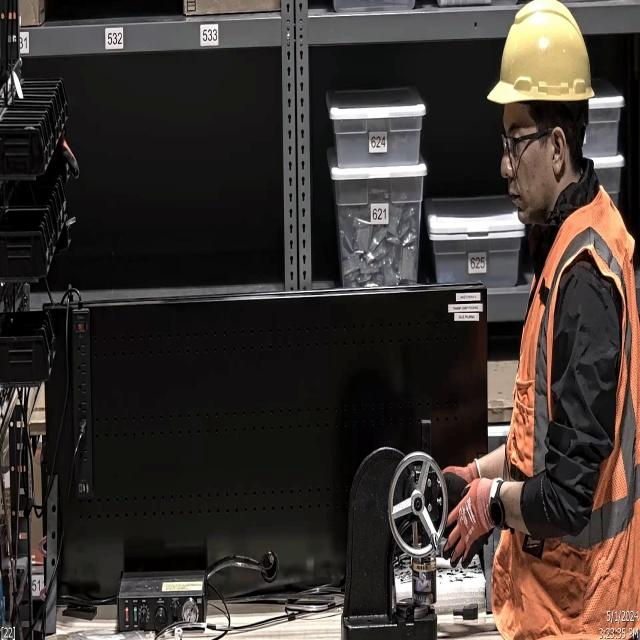gloves: (442, 466, 490, 570)
